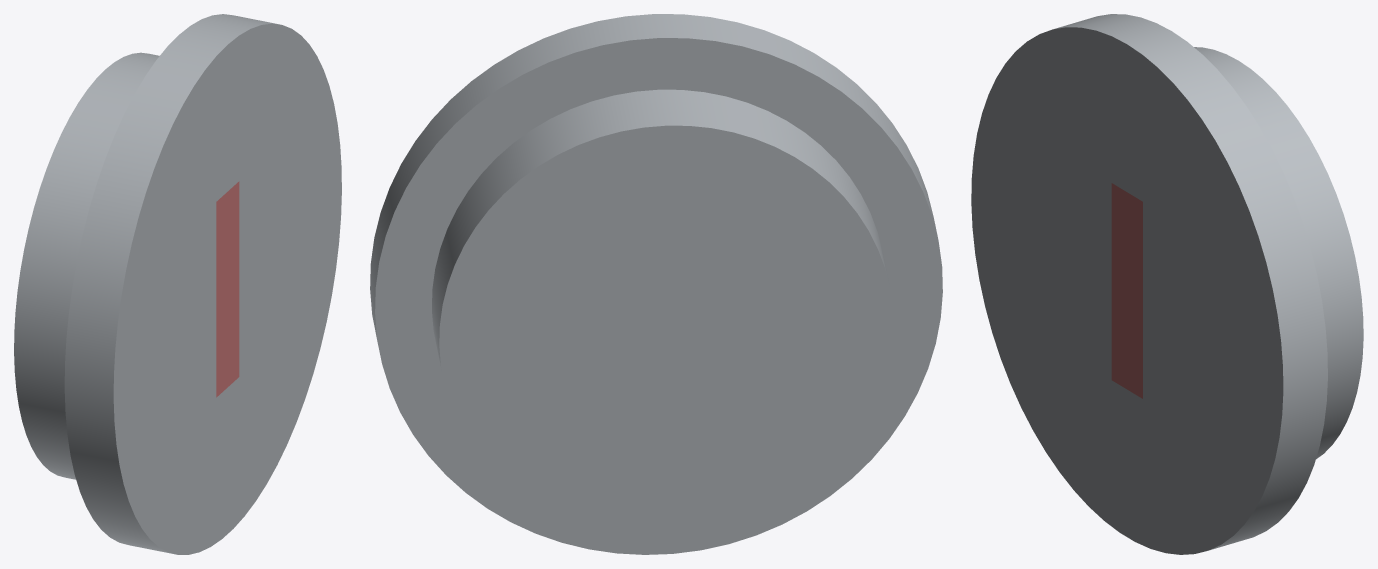
The model's file is step_02.glb.
3 views of the same model, side by side, from view 1: azimuth 30°, elevation 25°; view 2: azimuth 150°, elevation 25°; view 3: azimuth 270°, elevation 25° (orthographic). The views are drawn at different scales.
Parts seen in each view (by area): view 1: part__pharmacy cam lock, removed__pharmacy cam lock; view 2: part__pharmacy cam lock; view 3: part__pharmacy cam lock, removed__pharmacy cam lock.
Boxes of the visible parts, x1,y1,x2,y2 form: part__pharmacy cam lock: (14,14,341,554); removed__pharmacy cam lock: (216,181,239,397); part__pharmacy cam lock: (370,14,942,554); part__pharmacy cam lock: (971,14,1363,554); removed__pharmacy cam lock: (1111,183,1142,398).
Size of the model in its own units: 17.61 by 19.99 by 14.42.
